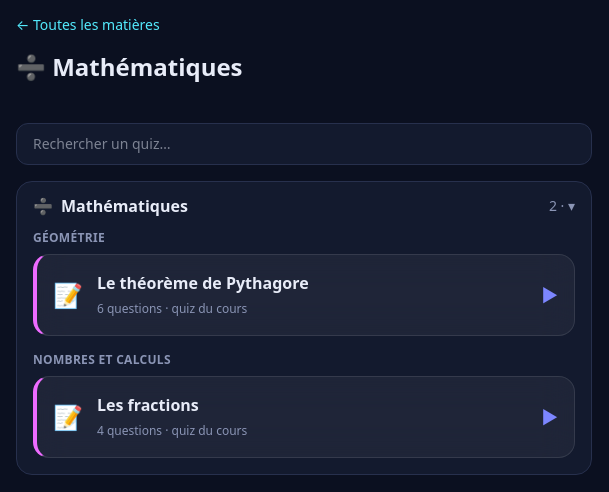
QuizPage — matière → chapitre + recherche (ADR-0057) › 🔒 un mot qui ne trouve rien nomme ce qu'on cherchait
Check: the text "Les fractions" is shown, box [97, 394, 199, 416]
Type "zzzz" into the search field with placeholder "Rechercher un quiz…" at point(304, 144), box [16, 123, 592, 165]
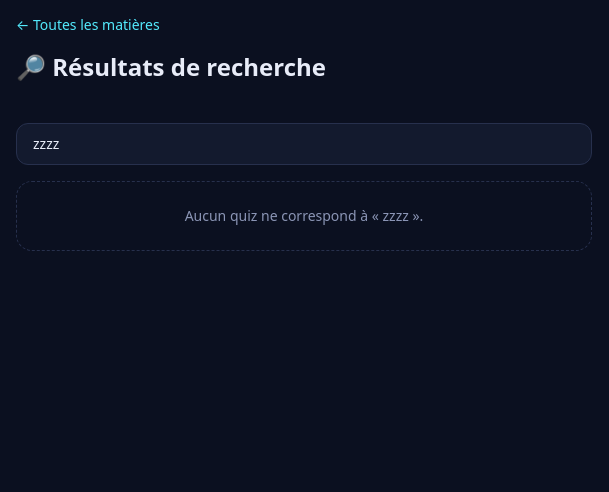
Check: the text "Aucun quiz ne correspond à « zzzz »." is shown, box [16, 181, 592, 251]
